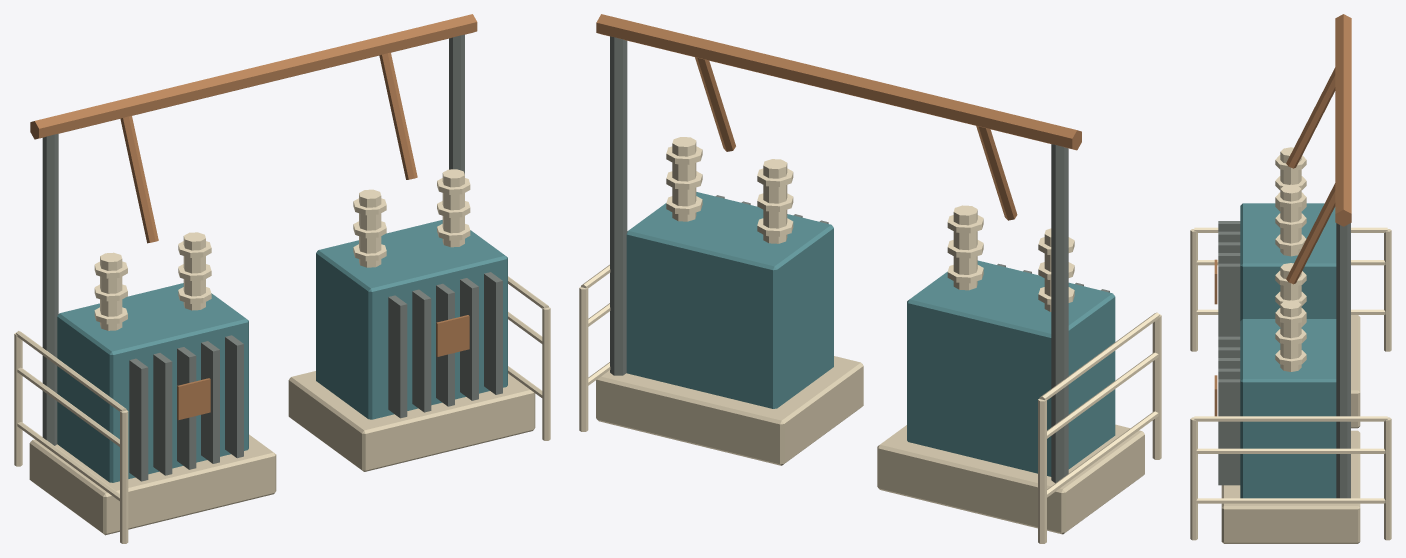
The model's file is hsinchu_substation_v2.glb.
The picture shows the model from 3 angles, left to right: view 1: azimuth 30°, elevation 25°; view 2: azimuth 150°, elevation 25°; view 3: azimuth 270°, elevation 25°; orthographic projection. The views are drawn at different scales.
Parts seen in each view (by area): view 1: hsinchu_substation_v2__hsinchu-teal, hsinchu_substation_v2__hsinchu-machinery, hsinchu_substation_v2__hsinchu-warm-concrete, hsinchu_substation_v2__hsinchu-pale-trim, hsinchu_substation_v2__hsinchu-copper; view 2: hsinchu_substation_v2__hsinchu-teal, hsinchu_substation_v2__hsinchu-warm-concrete, hsinchu_substation_v2__hsinchu-pale-trim, hsinchu_substation_v2__hsinchu-copper, hsinchu_substation_v2__hsinchu-machinery; view 3: hsinchu_substation_v2__hsinchu-teal, hsinchu_substation_v2__hsinchu-pale-trim, hsinchu_substation_v2__hsinchu-machinery, hsinchu_substation_v2__hsinchu-warm-concrete, hsinchu_substation_v2__hsinchu-copper.
Boxes of the visible parts, left/top/right/bottom form: hsinchu_substation_v2__hsinchu-teal: left=57, top=220, right=507, bottom=482; hsinchu_substation_v2__hsinchu-machinery: left=42, top=34, right=502, bottom=481; hsinchu_substation_v2__hsinchu-warm-concrete: left=29, top=371, right=535, bottom=535; hsinchu_substation_v2__hsinchu-pale-trim: left=14, top=169, right=550, bottom=543; hsinchu_substation_v2__hsinchu-copper: left=30, top=14, right=477, bottom=419; hsinchu_substation_v2__hsinchu-teal: left=626, top=192, right=1115, bottom=476; hsinchu_substation_v2__hsinchu-warm-concrete: left=596, top=356, right=1144, bottom=534; hsinchu_substation_v2__hsinchu-pale-trim: left=579, top=137, right=1161, bottom=543; hsinchu_substation_v2__hsinchu-copper: left=596, top=14, right=1081, bottom=220; hsinchu_substation_v2__hsinchu-machinery: left=610, top=36, right=1109, bottom=483; hsinchu_substation_v2__hsinchu-teal: left=1240, top=203, right=1336, bottom=498; hsinchu_substation_v2__hsinchu-pale-trim: left=1190, top=147, right=1391, bottom=540; hsinchu_substation_v2__hsinchu-machinery: left=1218, top=221, right=1350, bottom=498; hsinchu_substation_v2__hsinchu-warm-concrete: left=1221, top=315, right=1360, bottom=543; hsinchu_substation_v2__hsinchu-copper: left=1214, top=14, right=1351, bottom=416.
Bounding box in the file's own units: 42.07 × 33.75 × 18.28.
